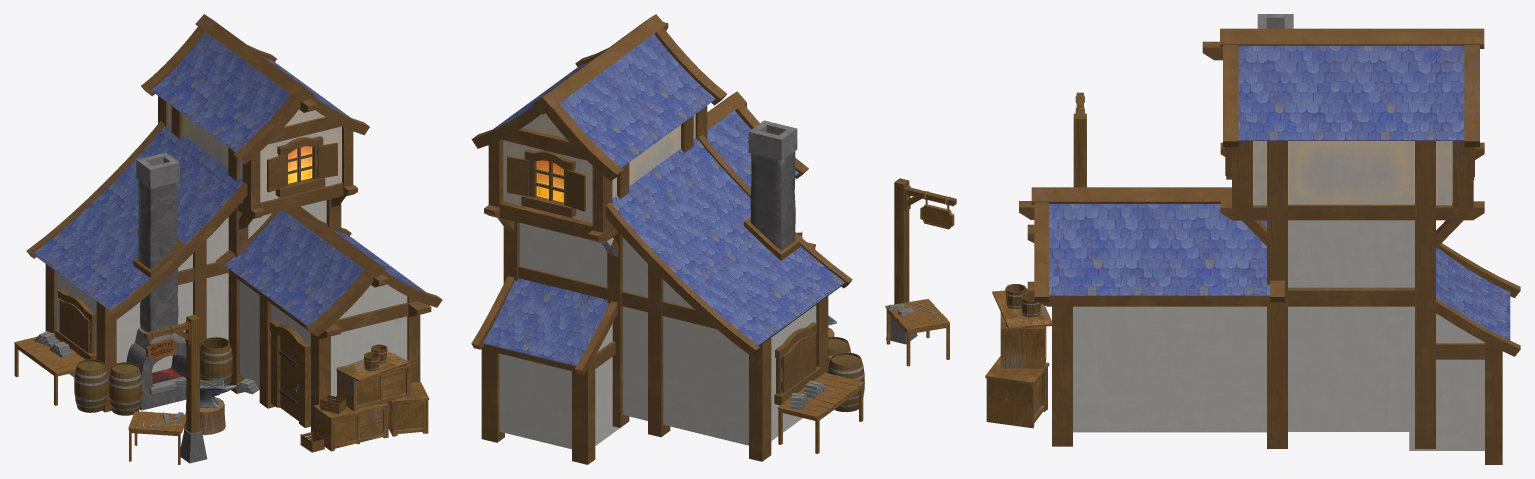
File: centered small texture blacksmith.glb
3 views of the same model, side by side, from view 1: azimuth 30°, elevation 25°; view 2: azimuth 150°, elevation 25°; view 3: azimuth 270°, elevation 25° (orthographic). The views are drawn at different scales.
Parts seen in each view (by area): view 1: Cube.536, Cube.552, Cube.542, Cube.397, Cube.396, Cube.400, Cube.549, Cube.472, Cube.473, Cube.480, Cube.496, Cube.537 (+43 smaller); view 2: Cube.536, Cube.396, Cube.552, Cube.591, Cube.587, Cube.549, Cube.400, Cube.535, Cube.539, Cube.534, Cube.572, Cube.553 (+31 smaller); view 3: Cube.396, Cube.397, Cube.554, Cube.543, Cube.549, Cube.563, Cube.540, Cube.591, Cube.541, Cube.553, Cube.587, Cube.483 (+18 smaller).
Boxes of the visible parts, bbox=[...] form: Cube.536: bbox=[33, 125, 242, 310]; Cube.552: bbox=[151, 32, 290, 152]; Cube.542: bbox=[224, 210, 364, 326]; Cube.397: bbox=[240, 281, 407, 426]; Cube.396: bbox=[56, 200, 326, 377]; Cube.400: bbox=[138, 180, 178, 332]; Cube.549: bbox=[168, 103, 341, 202]; Cube.472: bbox=[269, 320, 310, 427]; Cube.473: bbox=[313, 400, 389, 451]; Cube.480: bbox=[337, 353, 411, 411]; Cube.496: bbox=[228, 147, 248, 393]; Cube.537: bbox=[109, 182, 247, 319]; Cube.536: bbox=[611, 138, 844, 346]; Cube.396: bbox=[519, 223, 816, 445]; Cube.552: bbox=[560, 34, 715, 167]; Cube.591: bbox=[499, 323, 619, 449]; Cube.587: bbox=[483, 278, 609, 366]; Cube.549: bbox=[503, 113, 695, 222]; Cube.400: bbox=[750, 151, 795, 250]; Cube.535: bbox=[606, 202, 759, 355]; Cube.539: bbox=[648, 264, 670, 437]; Cube.534: bbox=[749, 338, 771, 461]; Cube.572: bbox=[607, 163, 629, 427]; Cube.553: bbox=[533, 14, 665, 114]; Cube.396: bbox=[1288, 220, 1414, 431]; Cube.397: bbox=[1073, 306, 1266, 432]; Cube.554: bbox=[1238, 45, 1464, 140]; Cube.543: bbox=[1049, 204, 1270, 295]; Cube.549: bbox=[1253, 141, 1452, 205]; Cube.563: bbox=[1415, 141, 1435, 448]; Cube.540: bbox=[1267, 141, 1287, 448]; Cube.591: bbox=[1409, 313, 1484, 450]; Cube.541: bbox=[1027, 281, 1414, 306]; Cube.553: bbox=[1220, 28, 1484, 48]; Cube.587: bbox=[1436, 247, 1510, 340]; Cube.483: bbox=[985, 356, 1049, 428].
Size of the model in its own units: 13.2 by 13.8 by 16.49.
Materials: 4 (4 with a texture image).
